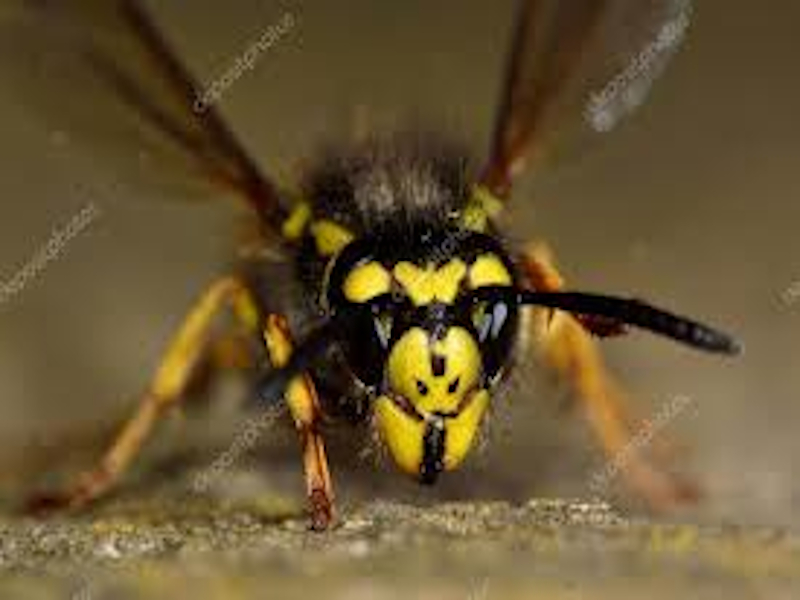chax: (25, 1, 741, 538)
